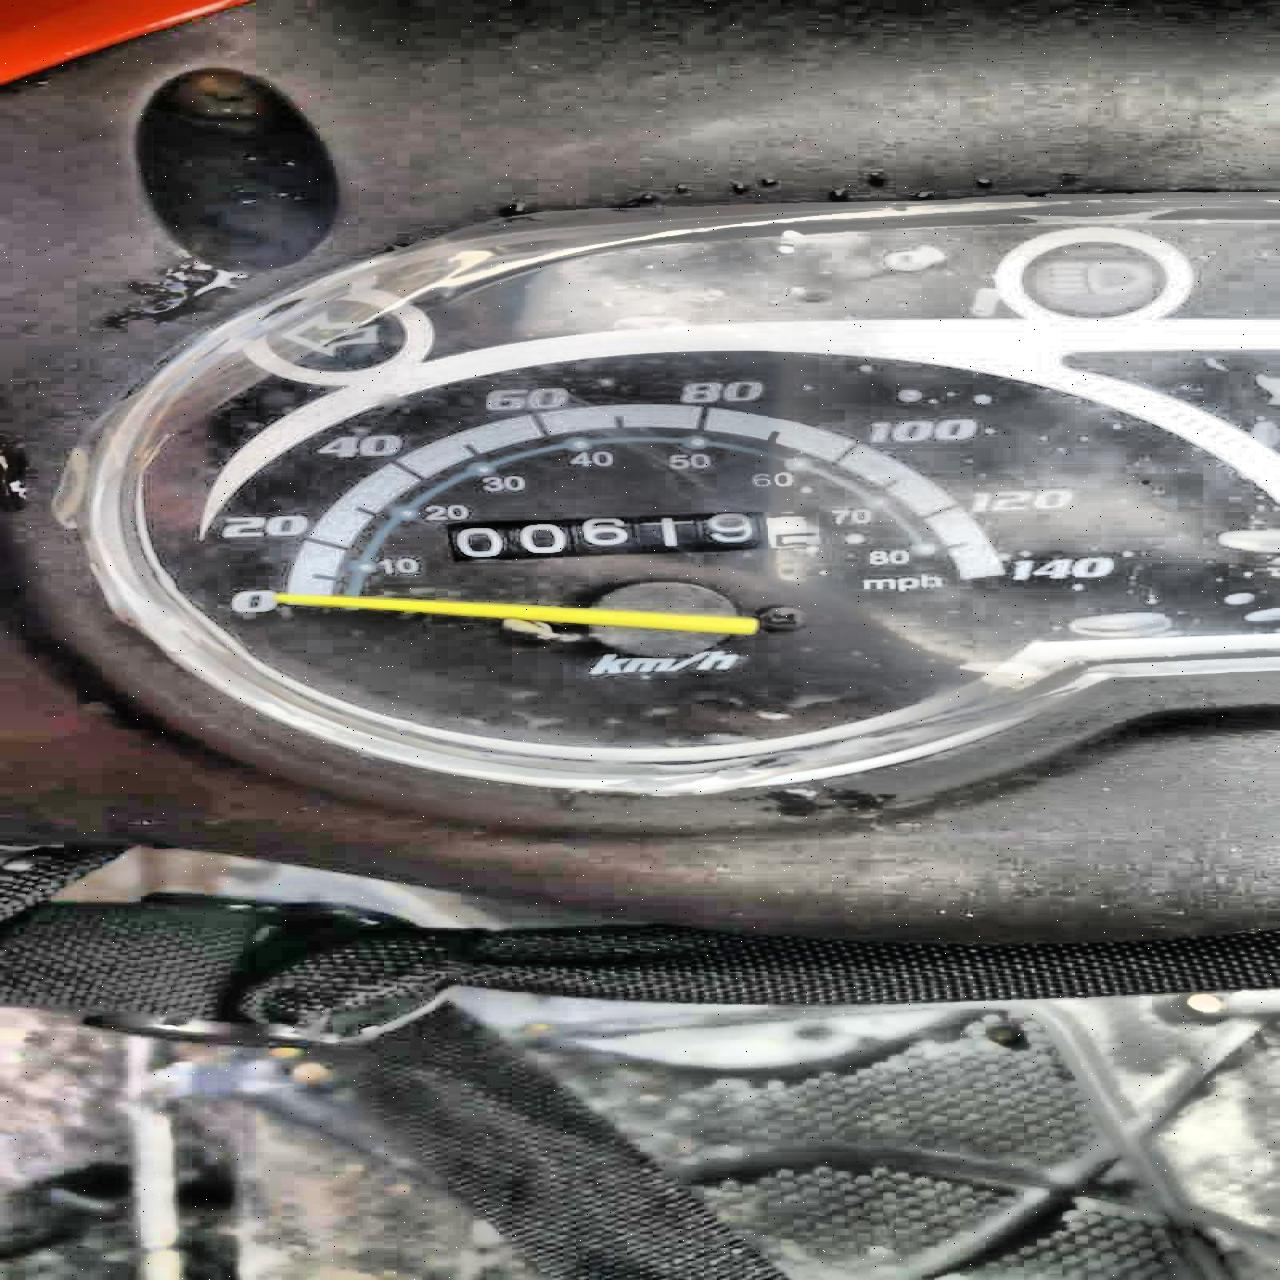0: (518, 523, 565, 553), (455, 526, 503, 556), (445, 504, 469, 519)
1: (660, 517, 679, 546)
5: (775, 531, 817, 558)
6: (581, 517, 629, 545)
9: (707, 512, 754, 543)
odometer: (438, 506, 829, 564)
